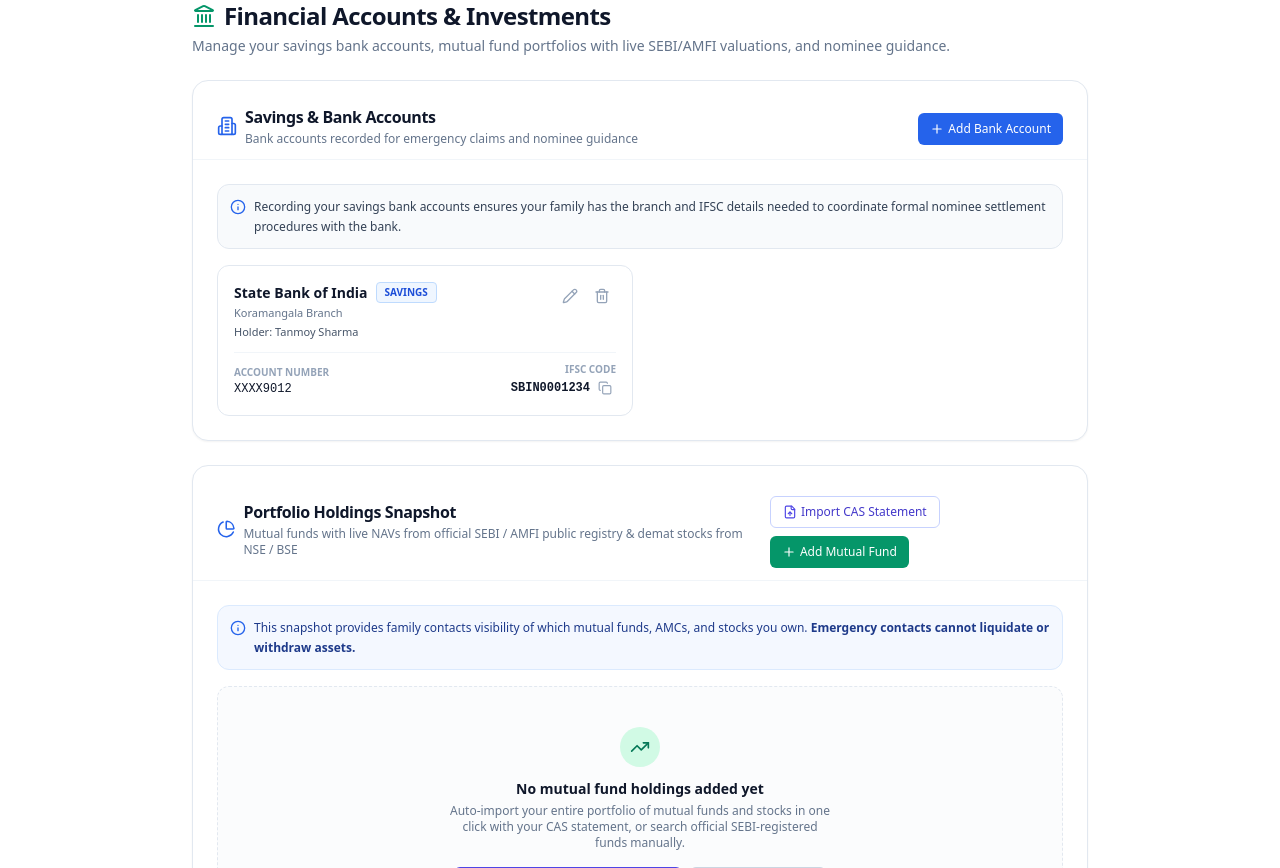
Test: Accounts Feature - Bank Accounts & Mutual Funds › opens CAS Auto-Import dialog when Import CAS Statement is clicked
Click the button "Import CAS Statement" at (855, 512), box [770,496,940,528]
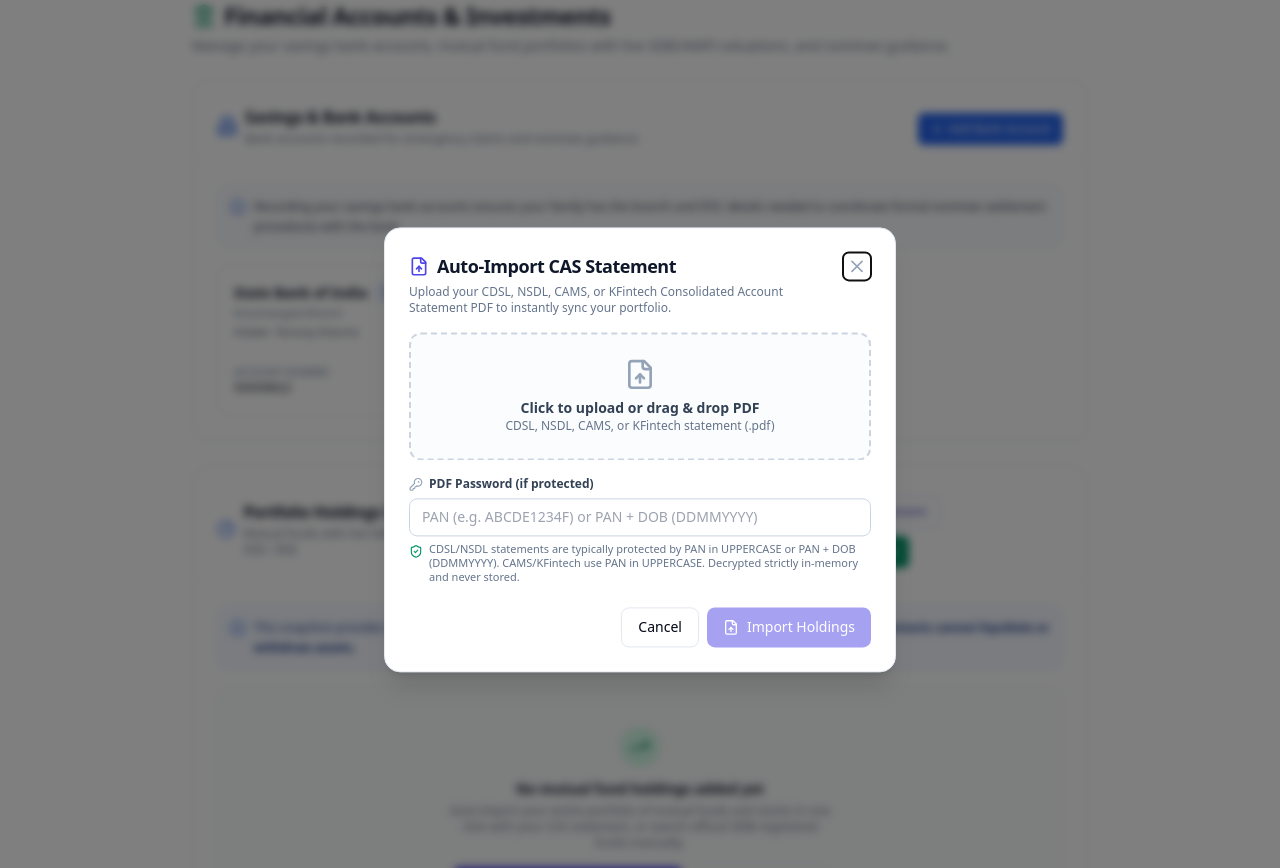
Expected: the heading "Auto-Import CAS Statement" is shown, [409,254,676,278]
Expected: the text "Upload your CDSL, NSDL, CAMS" is shown, [409,283,783,316]
Expected: the password field labelled "PDF Password (if protected)" is shown, [409,498,871,536]
